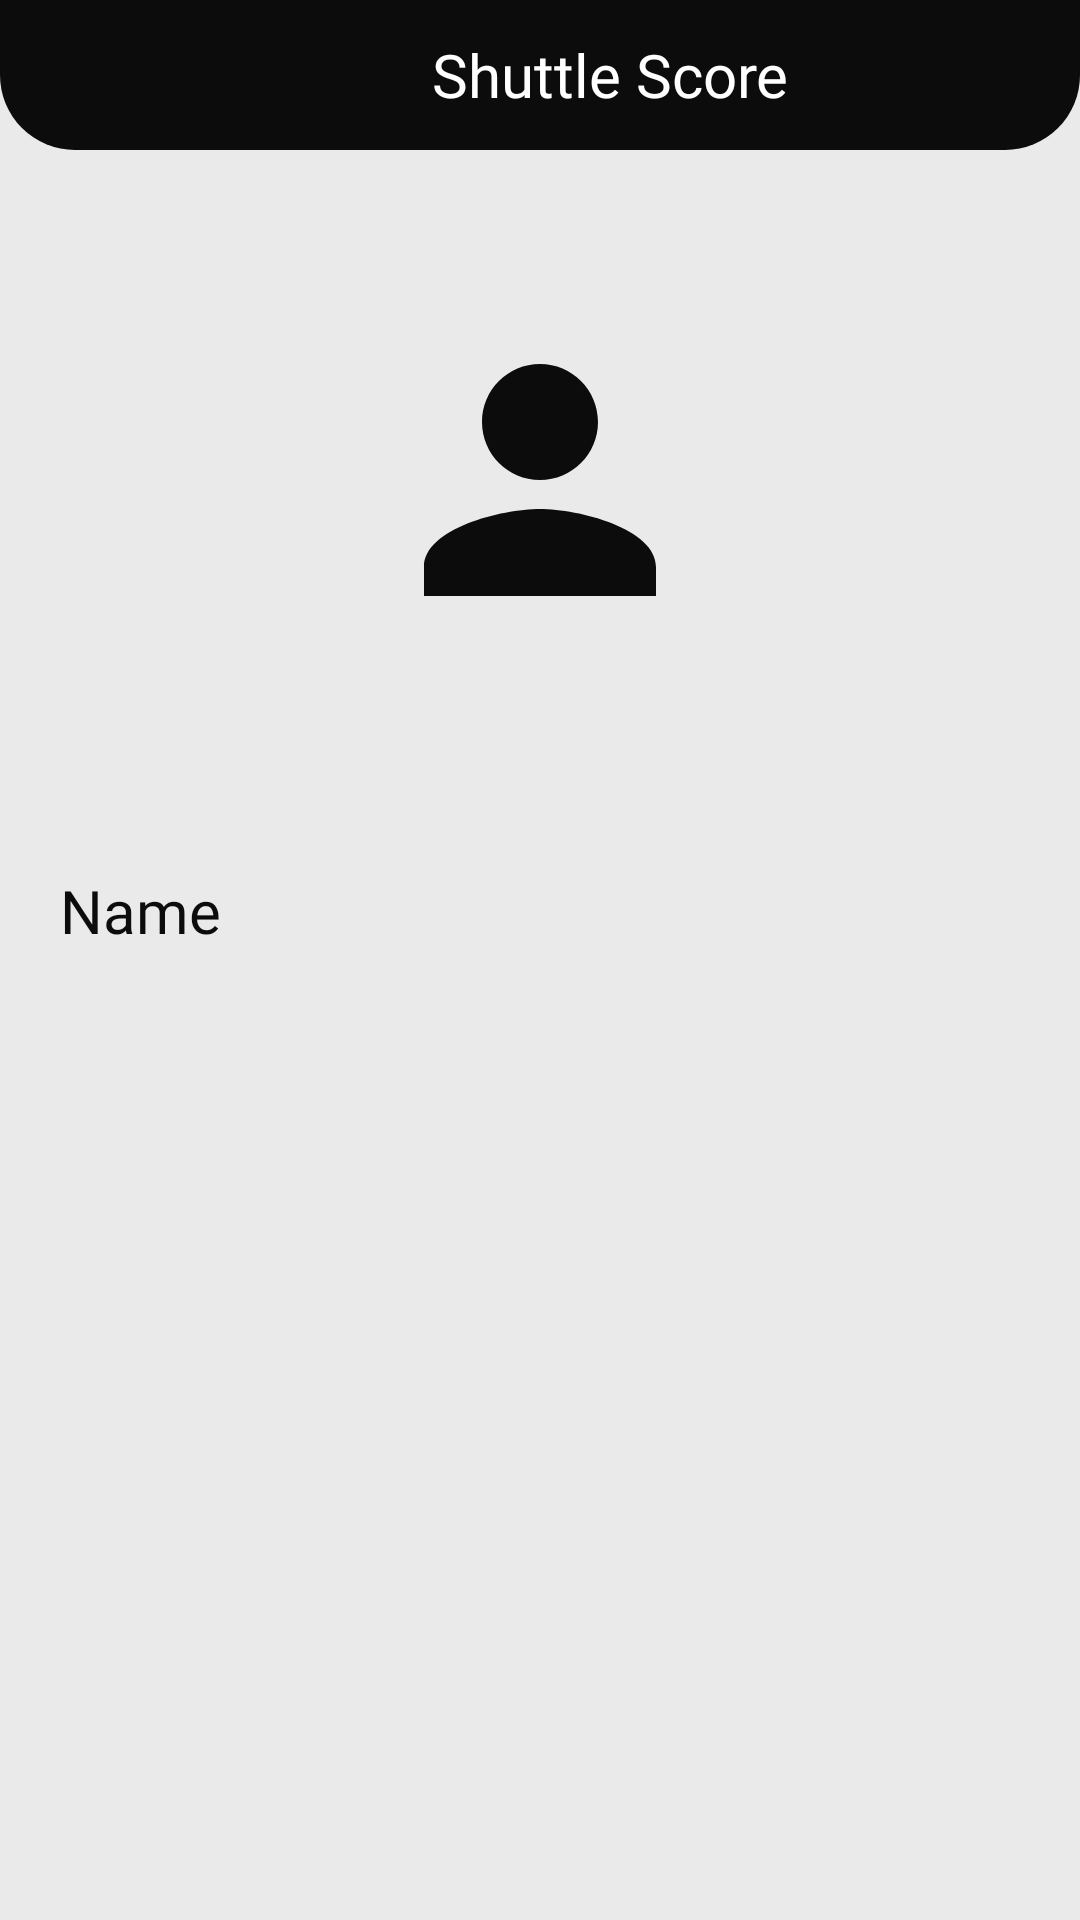

Where icons sit on this 1080px×1920px app screen, as rect(x1, y1, x2, y2):
profileiconpage: rect(424, 364, 656, 596)
